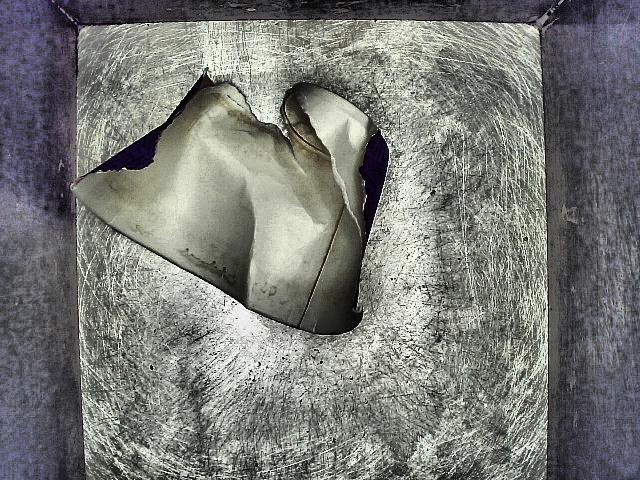Paper: (52, 61, 417, 366)
